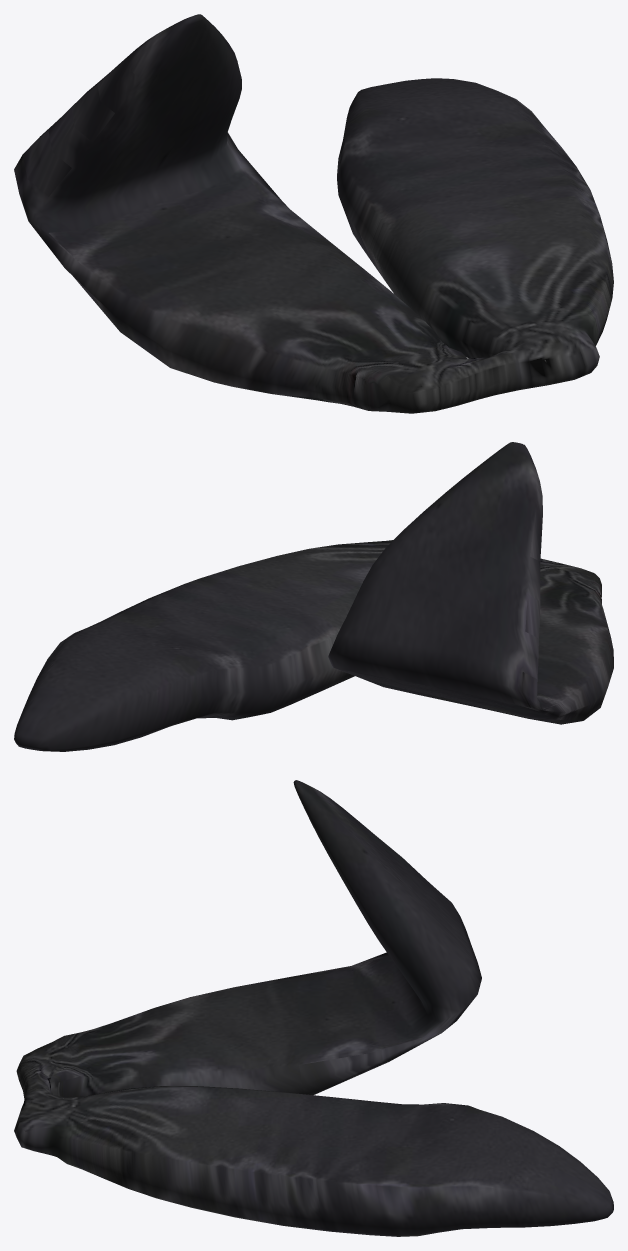
The model's file is WorldItem_BunnyEars.fbx.
3 renders of one model, top to bottom at view 1: azimuth 30°, elevation 25°; view 2: azimuth 150°, elevation 25°; view 3: azimuth 270°, elevation 25°, orthographic. The views are drawn at different scales.
Parts seen in each view (by area): view 1: Cube; view 2: Cube; view 3: Cube.
Boxes of the visible parts, x1,y1,x2,y2 form: Cube: [14, 14, 613, 413]; Cube: [14, 442, 613, 751]; Cube: [14, 780, 613, 1236].
Bounding box in the file's own units: 0.2099 × 0.1263 × 0.2379.
